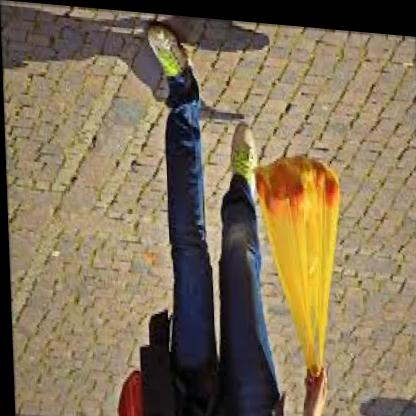Plastic: (250, 120, 364, 404)
